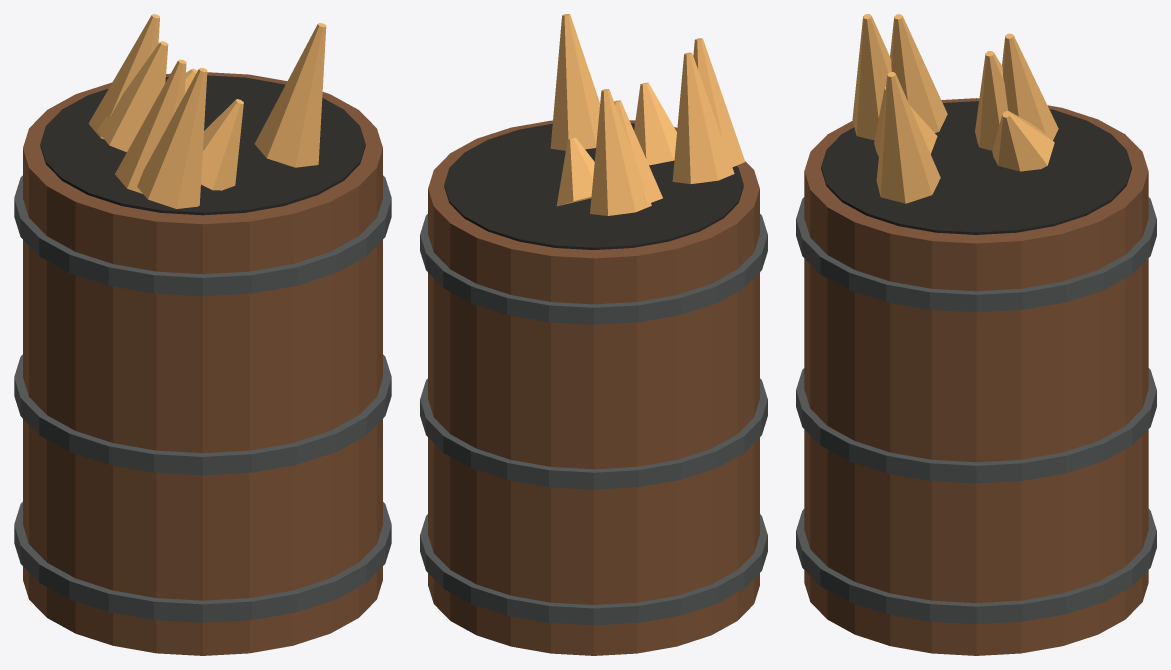
Rendered from FireDrum.fbx.
The picture shows the model from 3 angles, left to right: view 1: azimuth 30°, elevation 25°; view 2: azimuth 150°, elevation 25°; view 3: azimuth 270°, elevation 25°; orthographic projection. The views are drawn at different scales.
Visible parts, largest first — view 1: FireDrum; view 2: FireDrum; view 3: FireDrum.
Part boxes in pixels (x1,y1,x2,y2): FireDrum: (14,14,391,655); FireDrum: (420,14,767,655); FireDrum: (796,14,1156,655).
Size of the model in its own units: 0.65 by 1.08 by 0.65.
